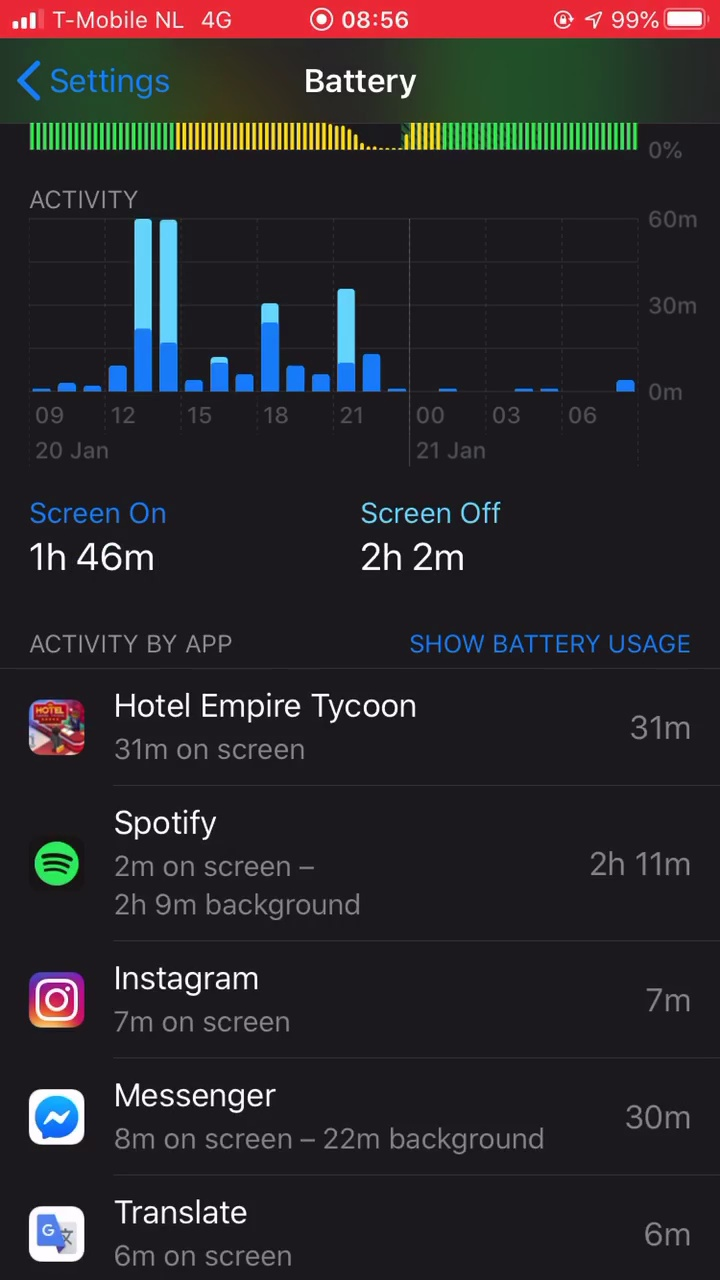app: (11, 795, 707, 922), (13, 681, 711, 767), (13, 958, 711, 1044), (11, 1070, 709, 1156), (9, 1194, 707, 1280)
